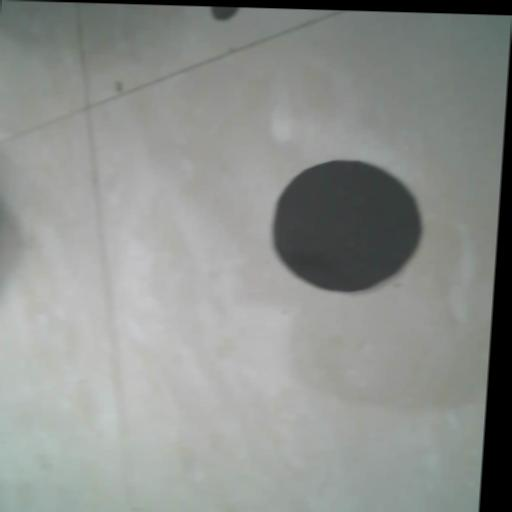pothole: (266, 157, 427, 294)
